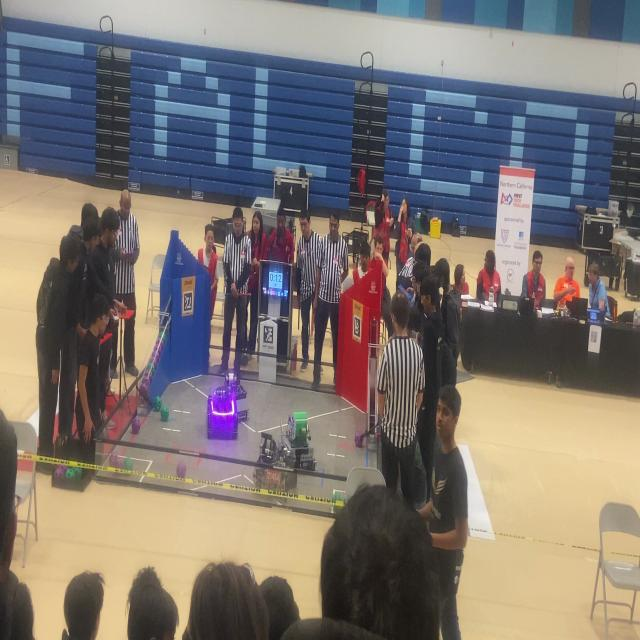artifact_green: (109, 453, 120, 468), (140, 379, 148, 399), (152, 352, 161, 368), (332, 490, 343, 503), (123, 458, 133, 471), (65, 467, 75, 480), (355, 431, 363, 447), (149, 347, 158, 361), (161, 406, 169, 421), (159, 335, 167, 350), (153, 396, 161, 411), (143, 368, 151, 381), (159, 330, 167, 343), (148, 362, 155, 376), (145, 355, 152, 369), (159, 337, 166, 351), (69, 467, 76, 479), (155, 334, 161, 347), (159, 340, 165, 353), (75, 468, 82, 479), (158, 329, 164, 339)
artifact_purple: (139, 382, 149, 401), (109, 453, 121, 468), (177, 462, 186, 479), (140, 380, 148, 398), (132, 417, 140, 434), (149, 349, 159, 362), (141, 370, 150, 384), (355, 432, 363, 447), (65, 467, 75, 479), (142, 370, 150, 385), (55, 466, 65, 477), (152, 348, 161, 360), (145, 370, 152, 385), (148, 363, 155, 377), (153, 354, 160, 367), (152, 343, 160, 353), (143, 366, 149, 379), (152, 343, 159, 354), (156, 345, 163, 355), (157, 346, 163, 357), (159, 338, 165, 349), (160, 339, 165, 350), (156, 336, 161, 345), (148, 376, 152, 386)
